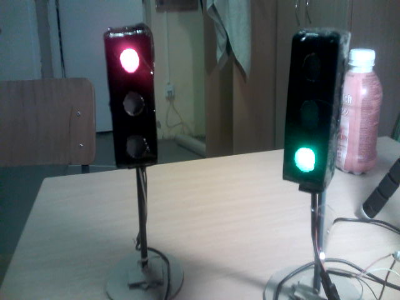trafficlight_green: (287, 38, 336, 177)
trafficlight_red: (112, 31, 155, 164)
